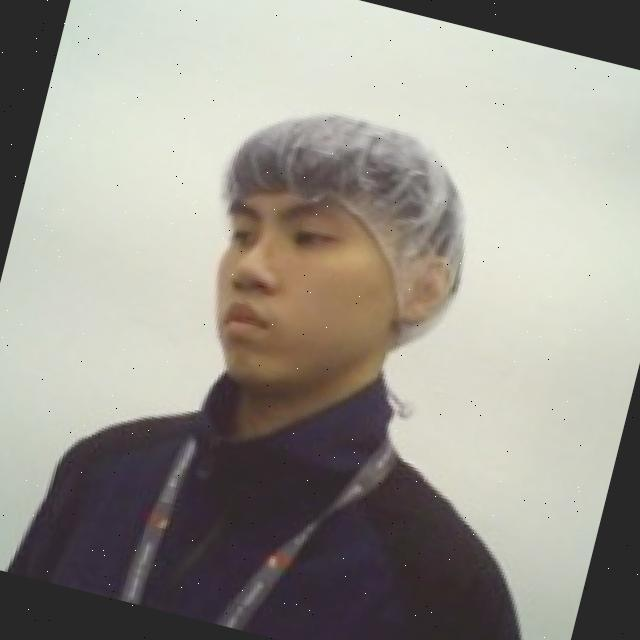gloves: (189, 84, 499, 350)
no_hairnet: (187, 192, 462, 430)
